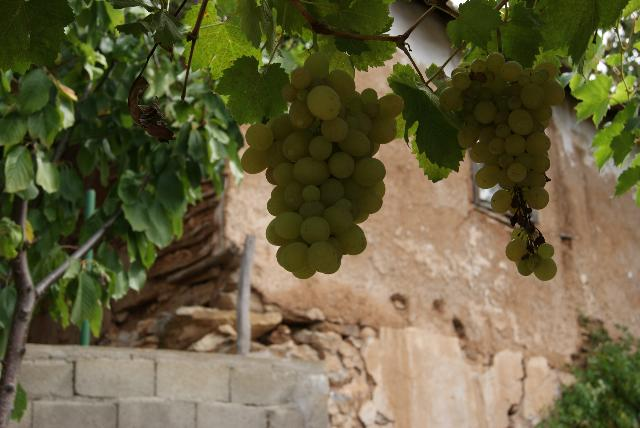grapes: (241, 51, 404, 279), (440, 52, 565, 281)
